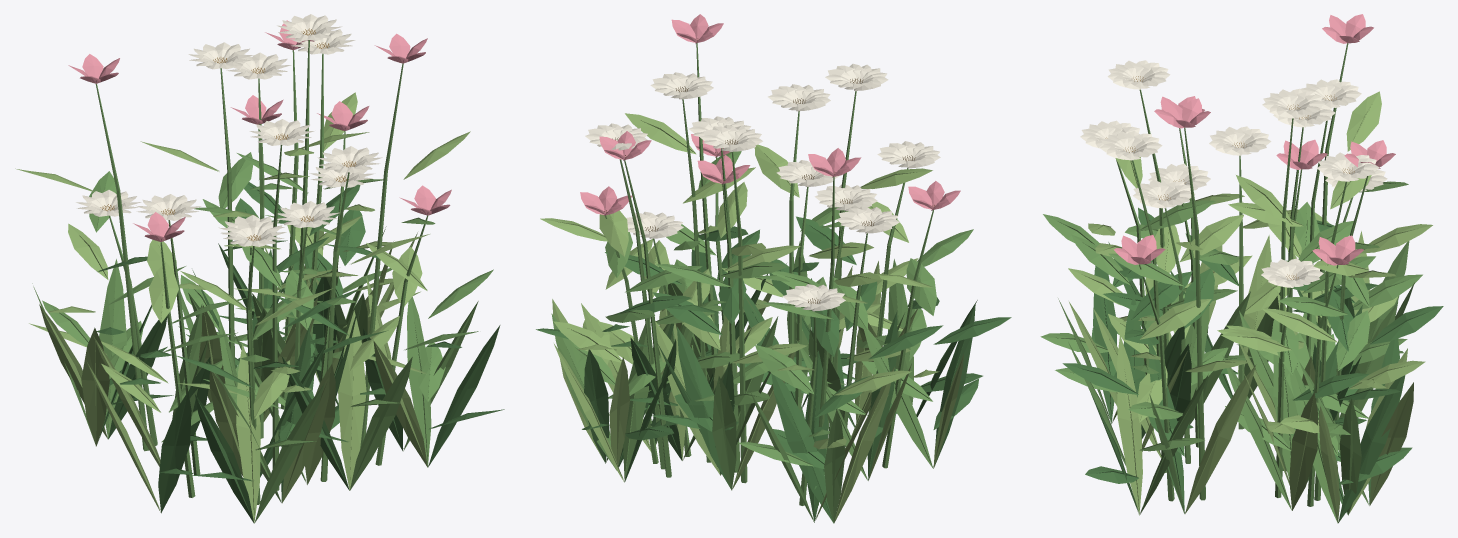
The model's file is daisy-clump.glb.
3 views of the same model, side by side, from view 1: azimuth 30°, elevation 25°; view 2: azimuth 150°, elevation 25°; view 3: azimuth 270°, elevation 25° (orthographic). The views are drawn at different scales.
Visible parts, largest first — view 1: catalog_surface_RealismUV; view 2: catalog_surface_RealismUV; view 3: catalog_surface_RealismUV.
Boxes of the visible parts, <box> form: catalog_surface_RealismUV: <box>15,14,504,523</box>; catalog_surface_RealismUV: <box>536,14,1011,523</box>; catalog_surface_RealismUV: <box>1040,14,1443,523</box>.
Bounding box in the file's own units: 0.5 × 0.5 × 0.45.
